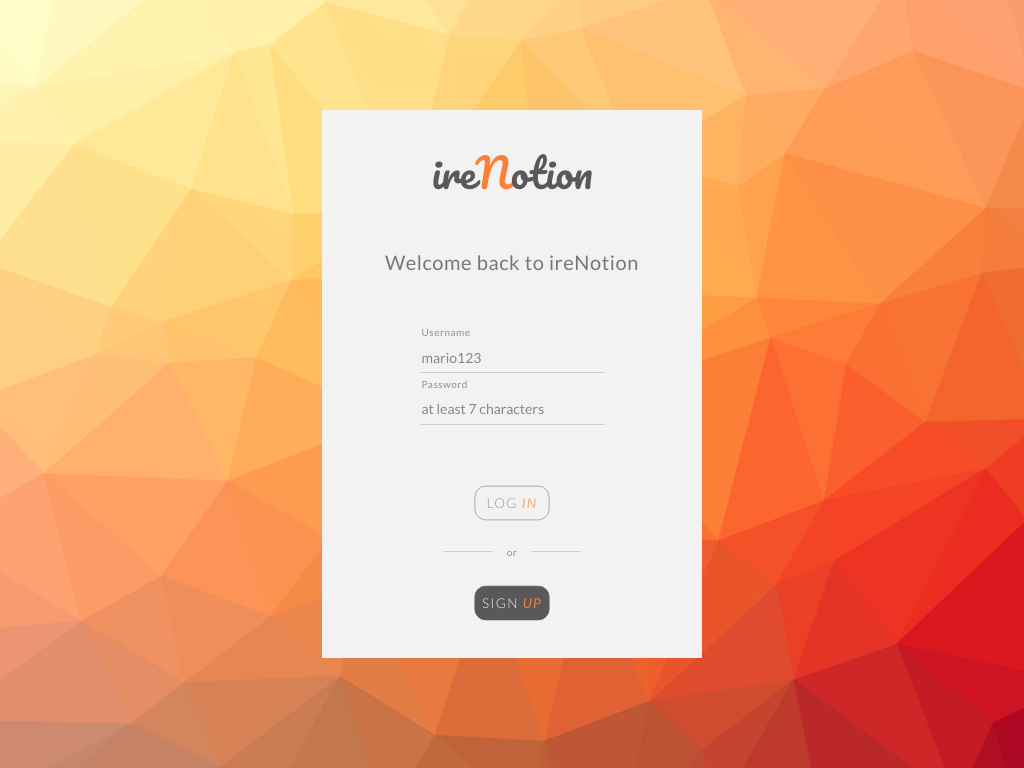
it: Given a Login view › When we type on both inputs with a wrong user › Then when clicking the login button a message should appear
Type "Mario" into the field with id "username". click: (513, 358)
box: [420,343,605,373]
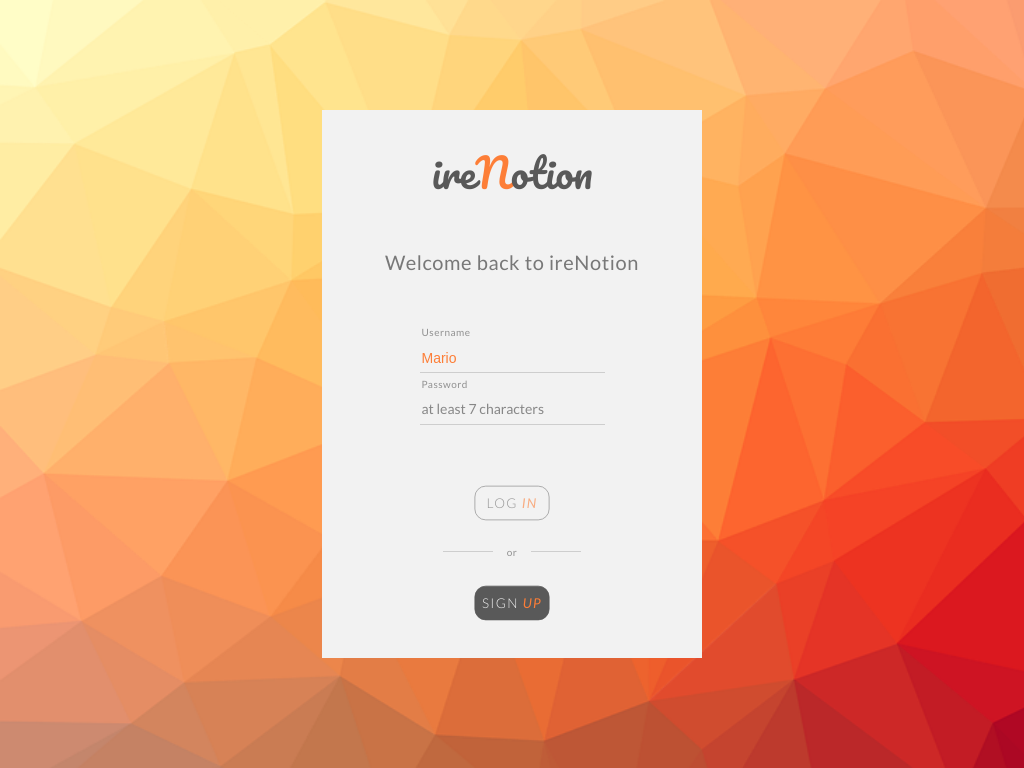
Type "Mario" into the password field labelled "Password". click: (513, 410)
box: [420,395,605,425]
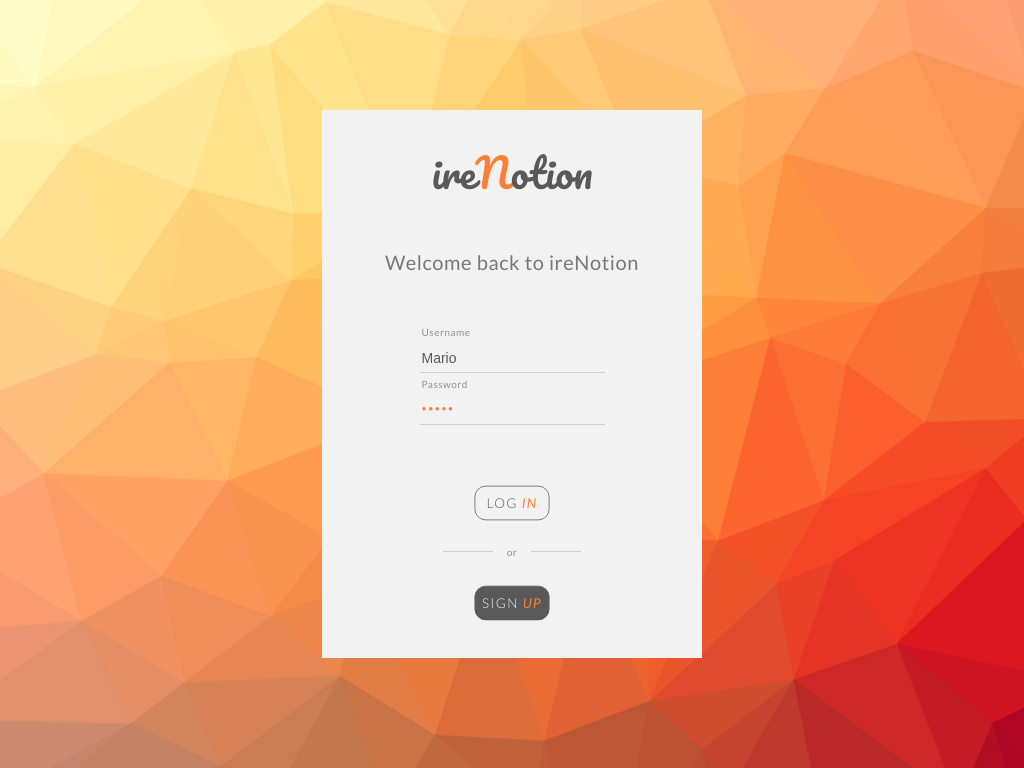
Click the button with class "login-form__button--login". click: click(513, 504)
box: [475,486,550,521]
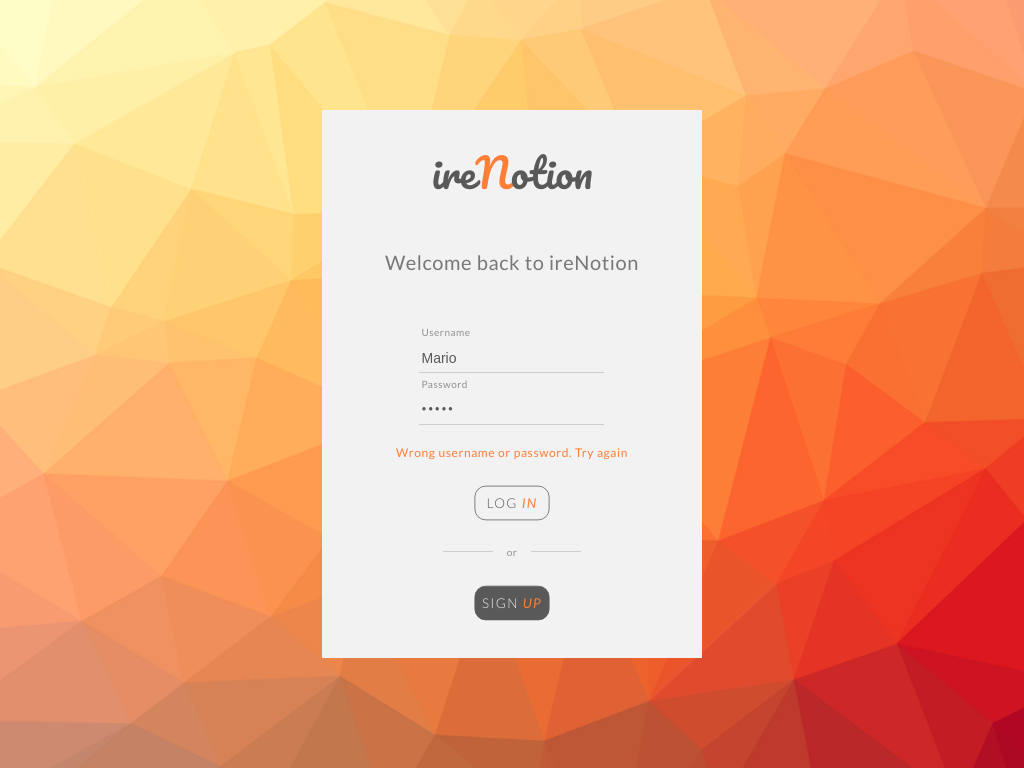
Check: the text with class "message" reads "Wrong username or password. Try again", box [396,445,628,460]
